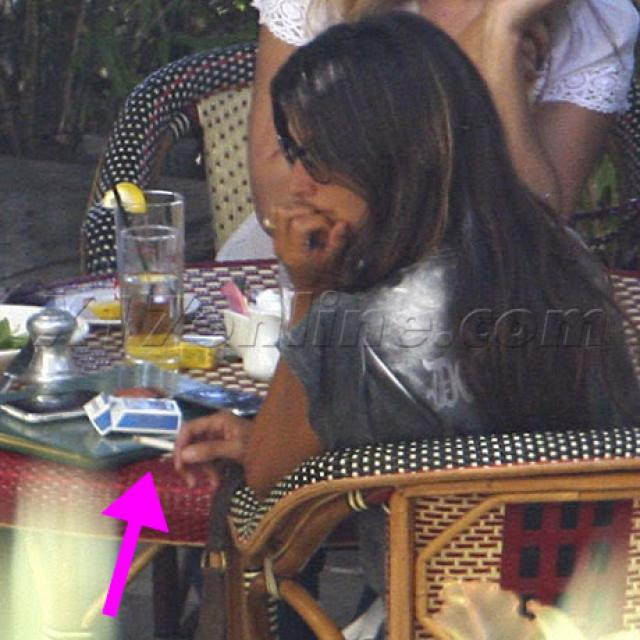cigarette: (131, 435, 176, 448)
